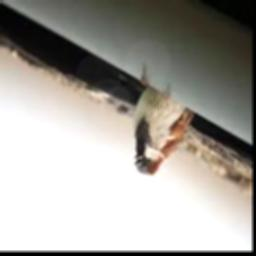Sparrow: (132, 70, 195, 174)
